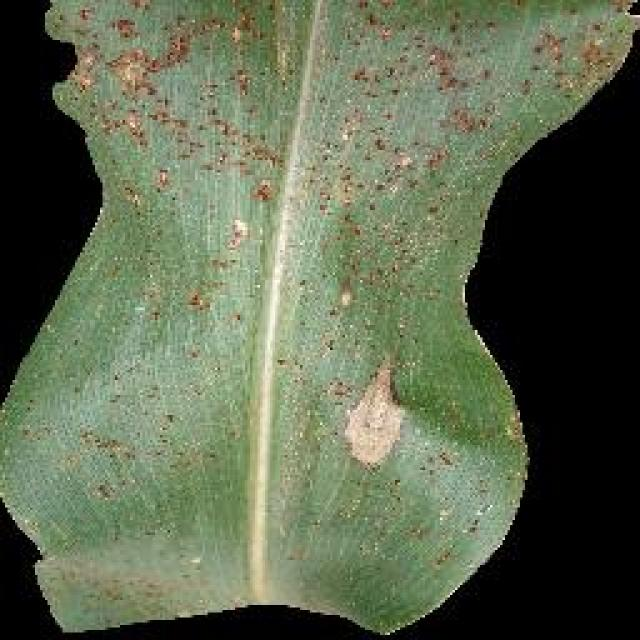Corn Common Rust: (79, 2, 564, 458)
